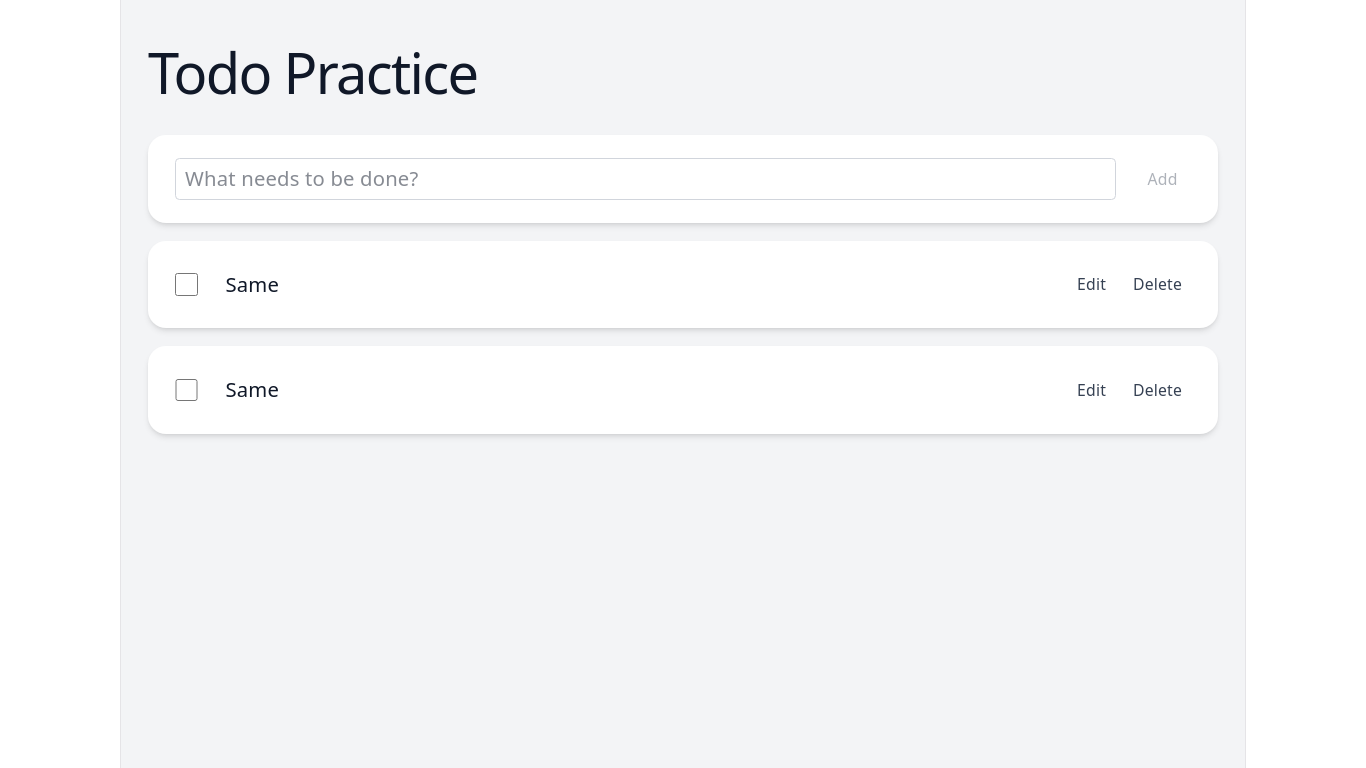
Scenario: App › deletes only the clicked todo
The width and height of the screenshot is (1366, 768).
Click the button with aria-label "Delete Same". click: (1158, 284)
box: [1124,269,1191,300]
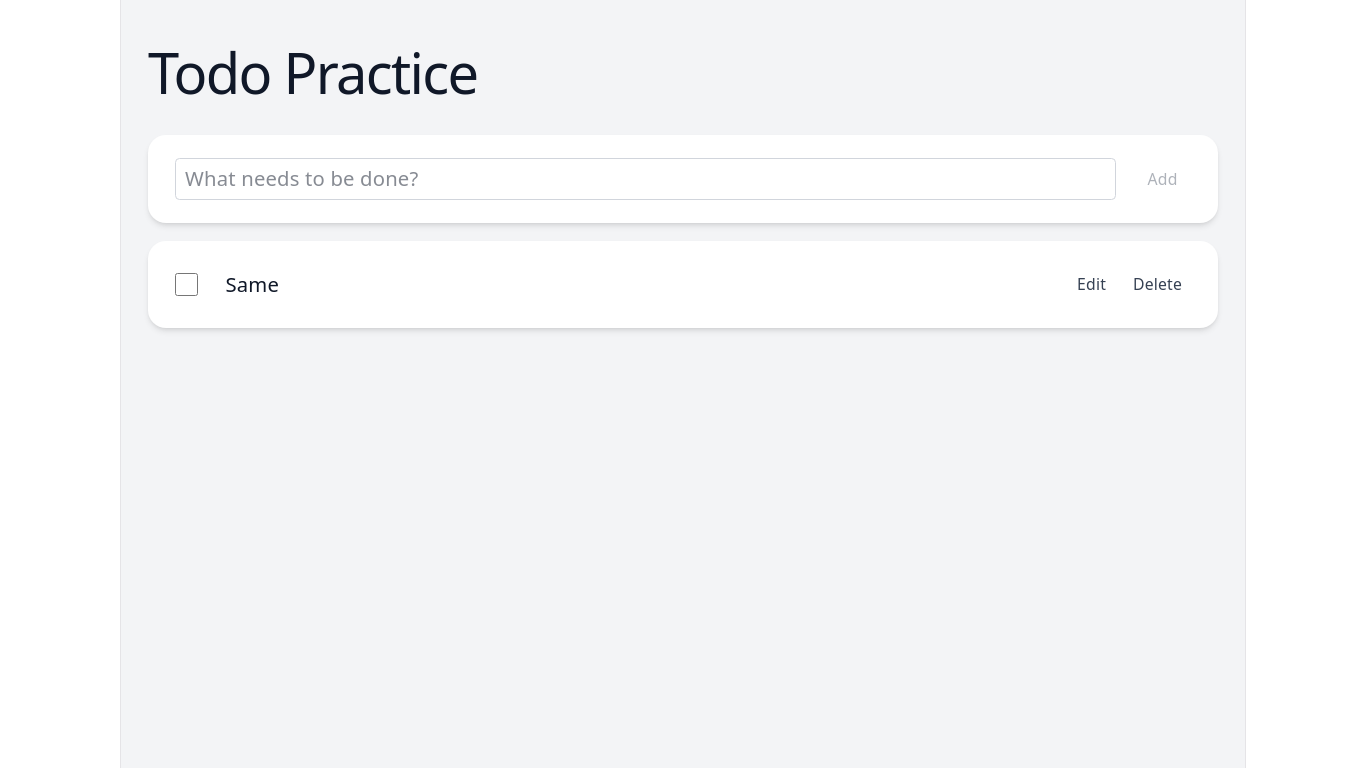
Check: the number of list items is 1, box [148,241,1218,328]
